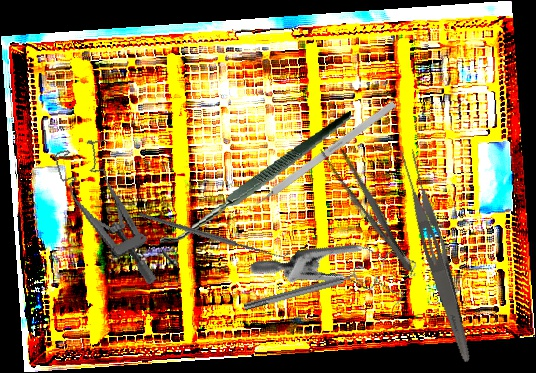Dressing Forceps: (394, 145, 482, 365), (315, 137, 422, 279)
Fixation Ring: (241, 264, 369, 316)
Hook Surgical: (146, 111, 369, 268), (137, 156, 291, 311), (243, 100, 397, 216)
Speculum: (248, 197, 430, 357), (51, 132, 160, 300)
